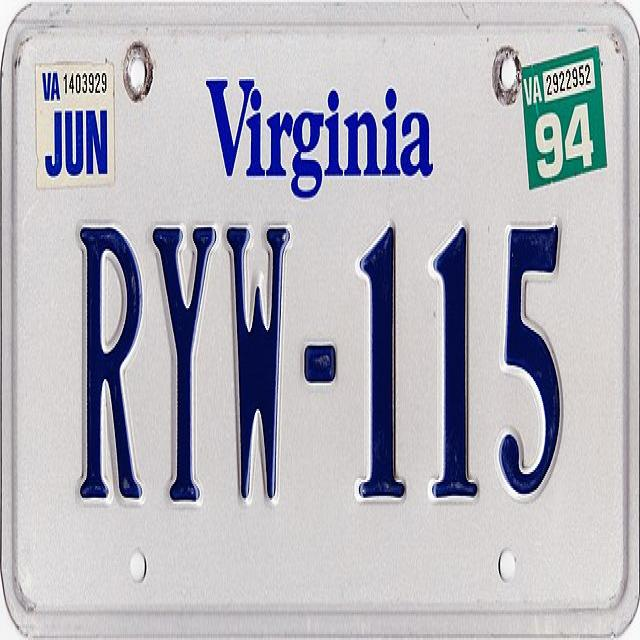placa: (16, 198, 622, 514)
